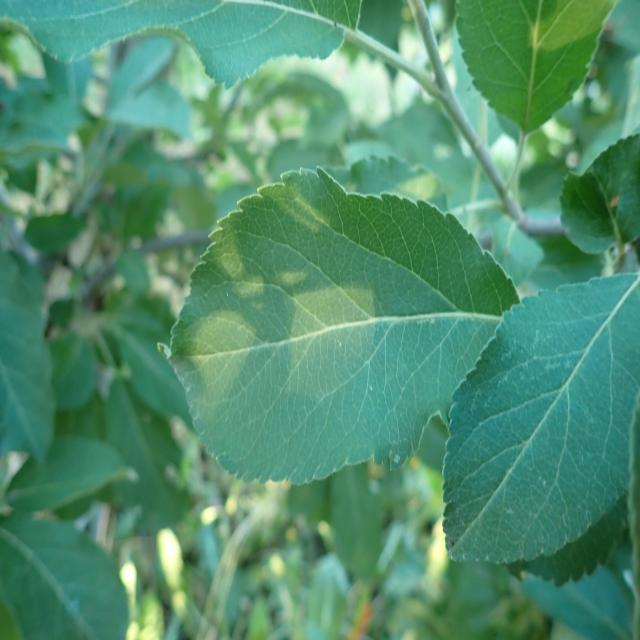healthy: (157, 165, 522, 485), (440, 271, 640, 565), (1, 0, 362, 89), (455, 0, 617, 136), (0, 514, 130, 640), (558, 132, 640, 254)
